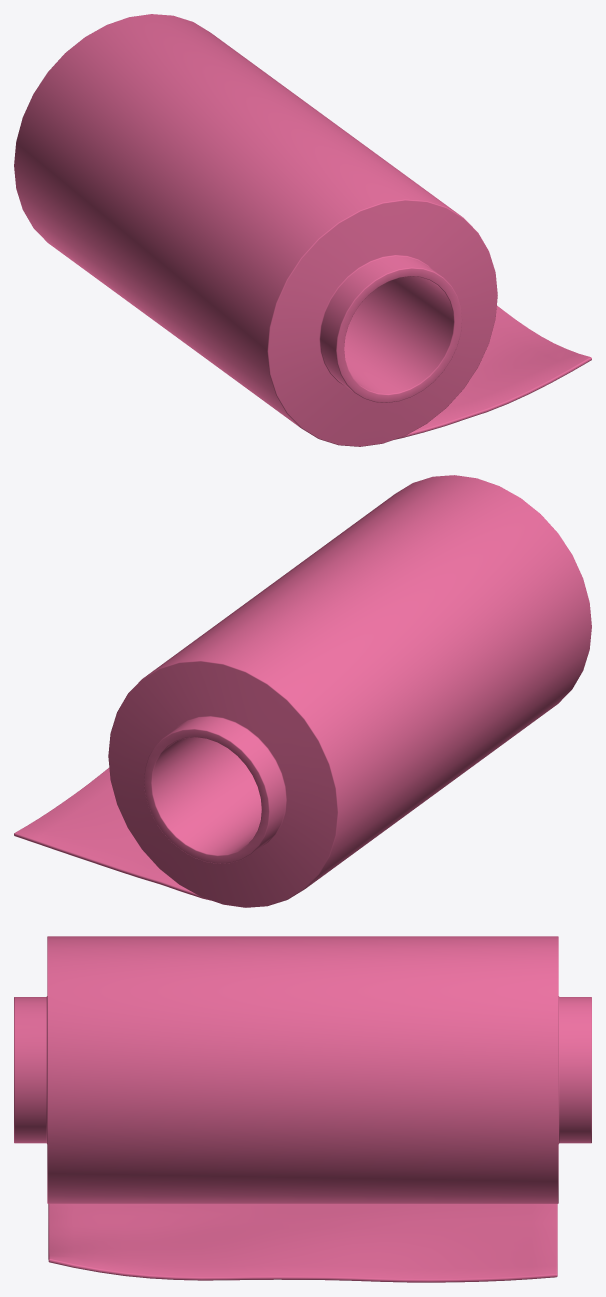
Rendered from crepe bandage.fbx.
3 views of the same model, one above another, from view 1: azimuth 30°, elevation 25°; view 2: azimuth 150°, elevation 25°; view 3: azimuth 270°, elevation 25° (orthographic).
Parts seen in each view (by area): view 1: roll.002, bandage.004; view 2: roll.002, bandage.004; view 3: roll.002, bandage.004.
Boxes of the visible parts, x1,y1,x2,y2 form: roll.002: (14,14,497,446); bandage.004: (394,305,591,439); roll.002: (108,475,591,907); bandage.004: (14,768,210,900); roll.002: (14,936,591,1203); bandage.004: (48,1204,557,1282).
Bounding box in the file's own units: 0.0394 × 0.0279 × 0.0602.
